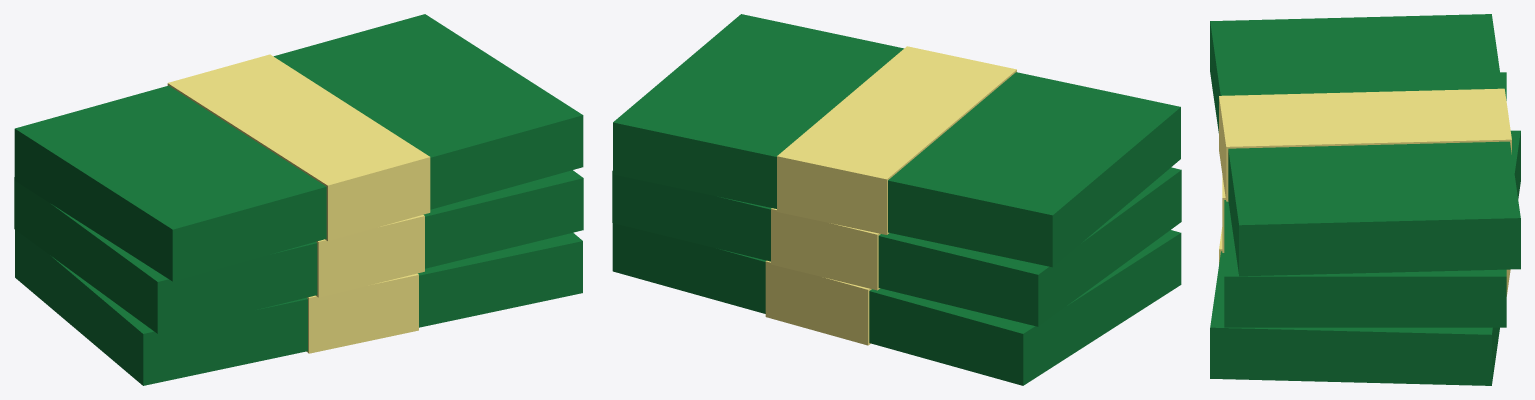
The model's file is cash-bundle.glb.
3 views of the same model, side by side, from view 1: azimuth 30°, elevation 25°; view 2: azimuth 150°, elevation 25°; view 3: azimuth 270°, elevation 25° (orthographic).
Bounding box in the file's own units: 1.24 × 0.45 × 0.7707.
